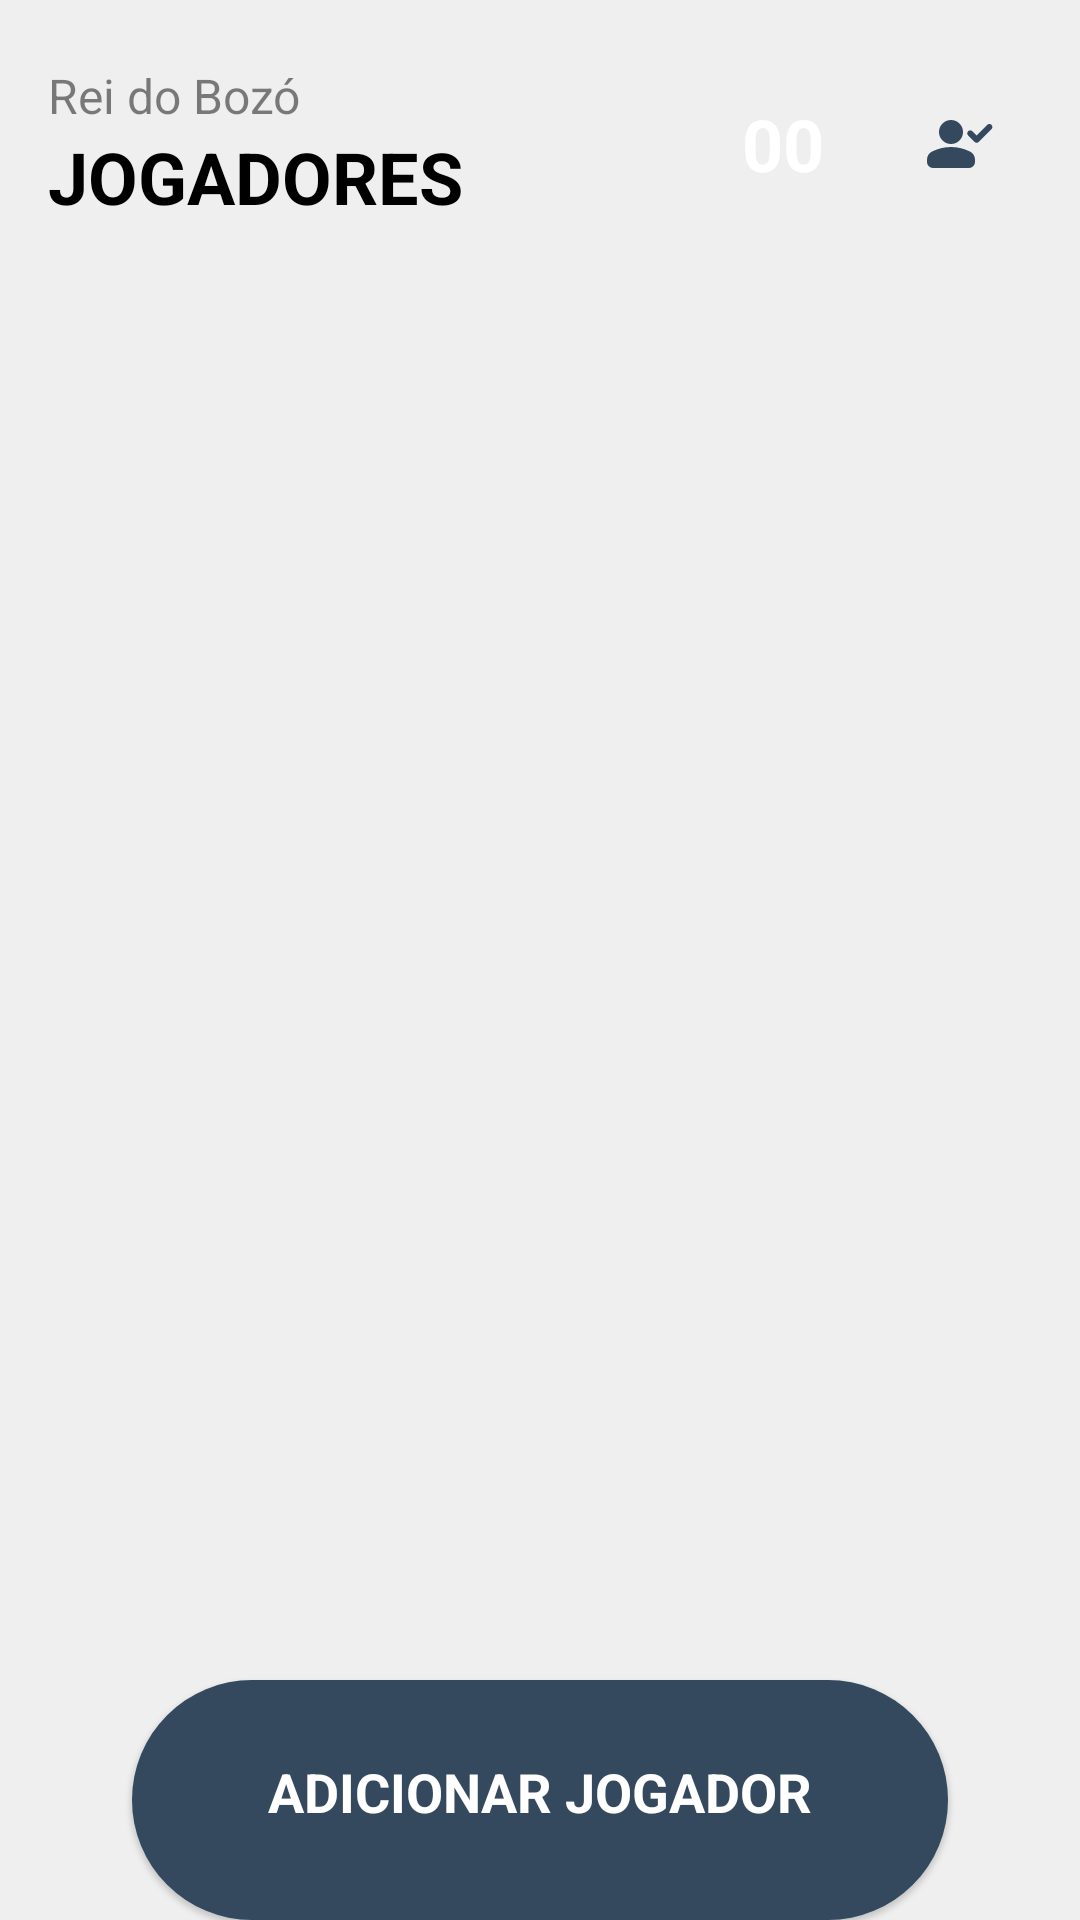

Named icons in this screenshot (1080px×1920px) and their bounding boxes, (x1, y1, x2, y2):
person check: (927, 120, 993, 168)
